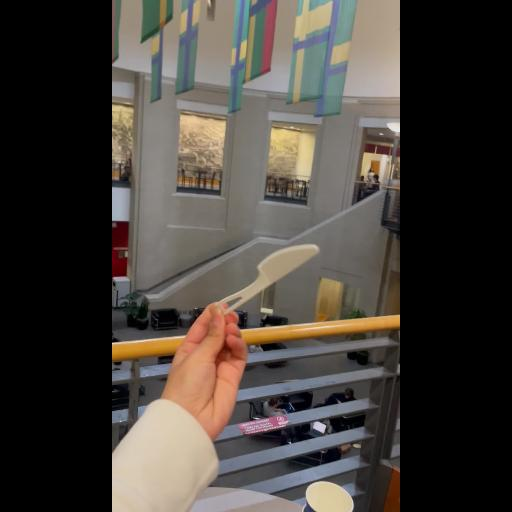utensil: (198, 217, 332, 335)
